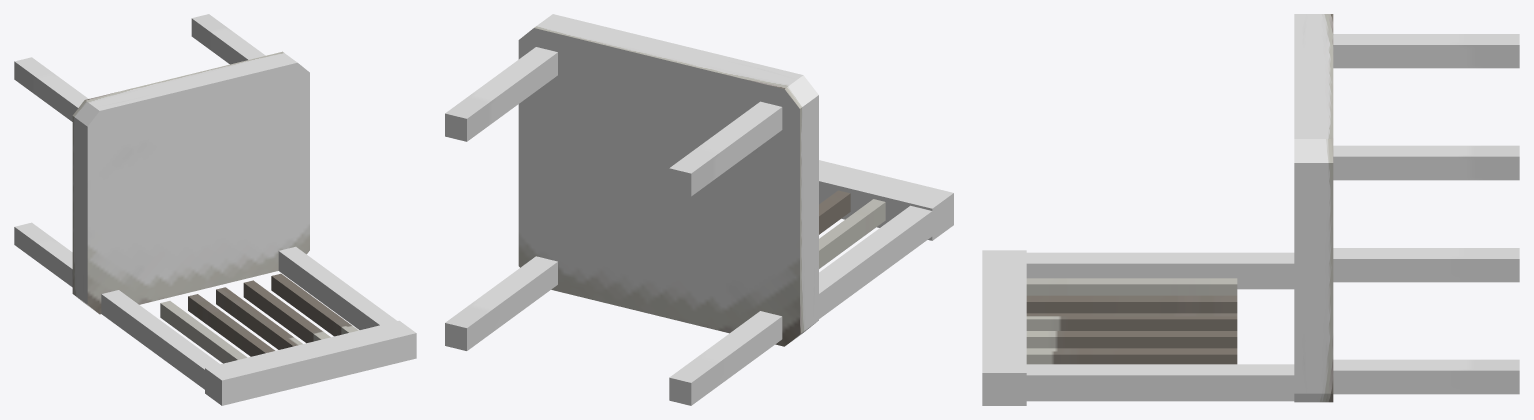
The model's file is pz_chair_seating_indoor_02_white_wooden.obj.
The picture shows the model from 3 angles, left to right: view 1: azimuth 30°, elevation 25°; view 2: azimuth 150°, elevation 25°; view 3: azimuth 270°, elevation 25°; orthographic projection. The views are drawn at different scales.
Parts seen in each view (by area): view 1: root; view 2: root; view 3: root.
Boxes of the visible parts, x1=… form: root: x1=14, y1=14, x2=416, y2=405; root: x1=445, y1=14, x2=953, y2=405; root: x1=982, y1=14, x2=1519, y2=405.
Size of the model in its own units: 0.64 by 0.57 by 1.03.
Materials: 1 (1 with a texture image).
